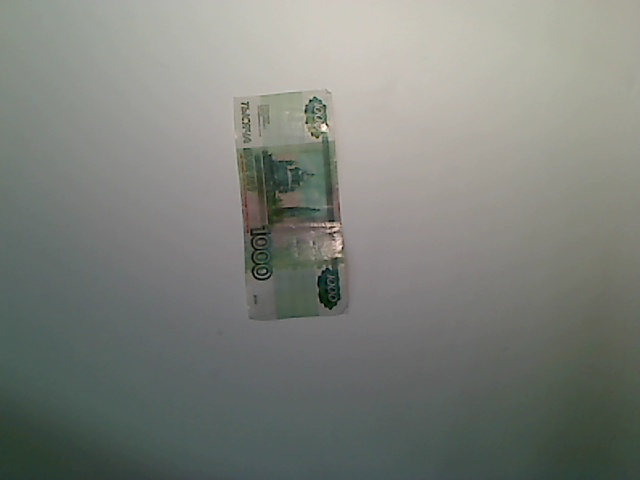banknotes: (229, 85, 355, 324)
